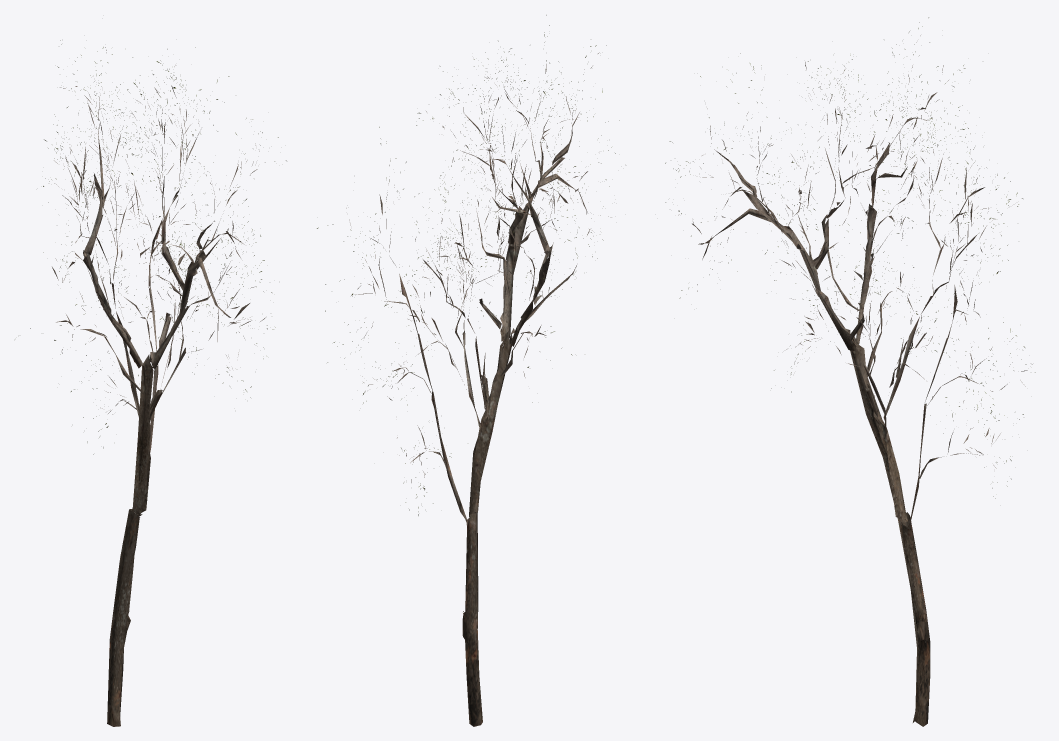
Rendered from tree_tree_small_02_sapling.glb.
3 renders of one model, left to right at view 1: azimuth 30°, elevation 25°; view 2: azimuth 150°, elevation 25°; view 3: azimuth 270°, elevation 25°, orthographic. The views are drawn at different scales.
Visible parts, largest first — view 1: tree_tree_small_02_sapling; view 2: tree_tree_small_02_sapling; view 3: tree_tree_small_02_sapling.
Part boxes in pixels (<box>): tree_tree_small_02_sapling: <box>30,40,286,726</box>; tree_tree_small_02_sapling: <box>317,15,619,726</box>; tree_tree_small_02_sapling: <box>665,17,1035,726</box>.
Size of what is drawn, in the model's own units: 1.21 by 3.5 by 1.78.
Materials: 3 (3 with a texture image).
